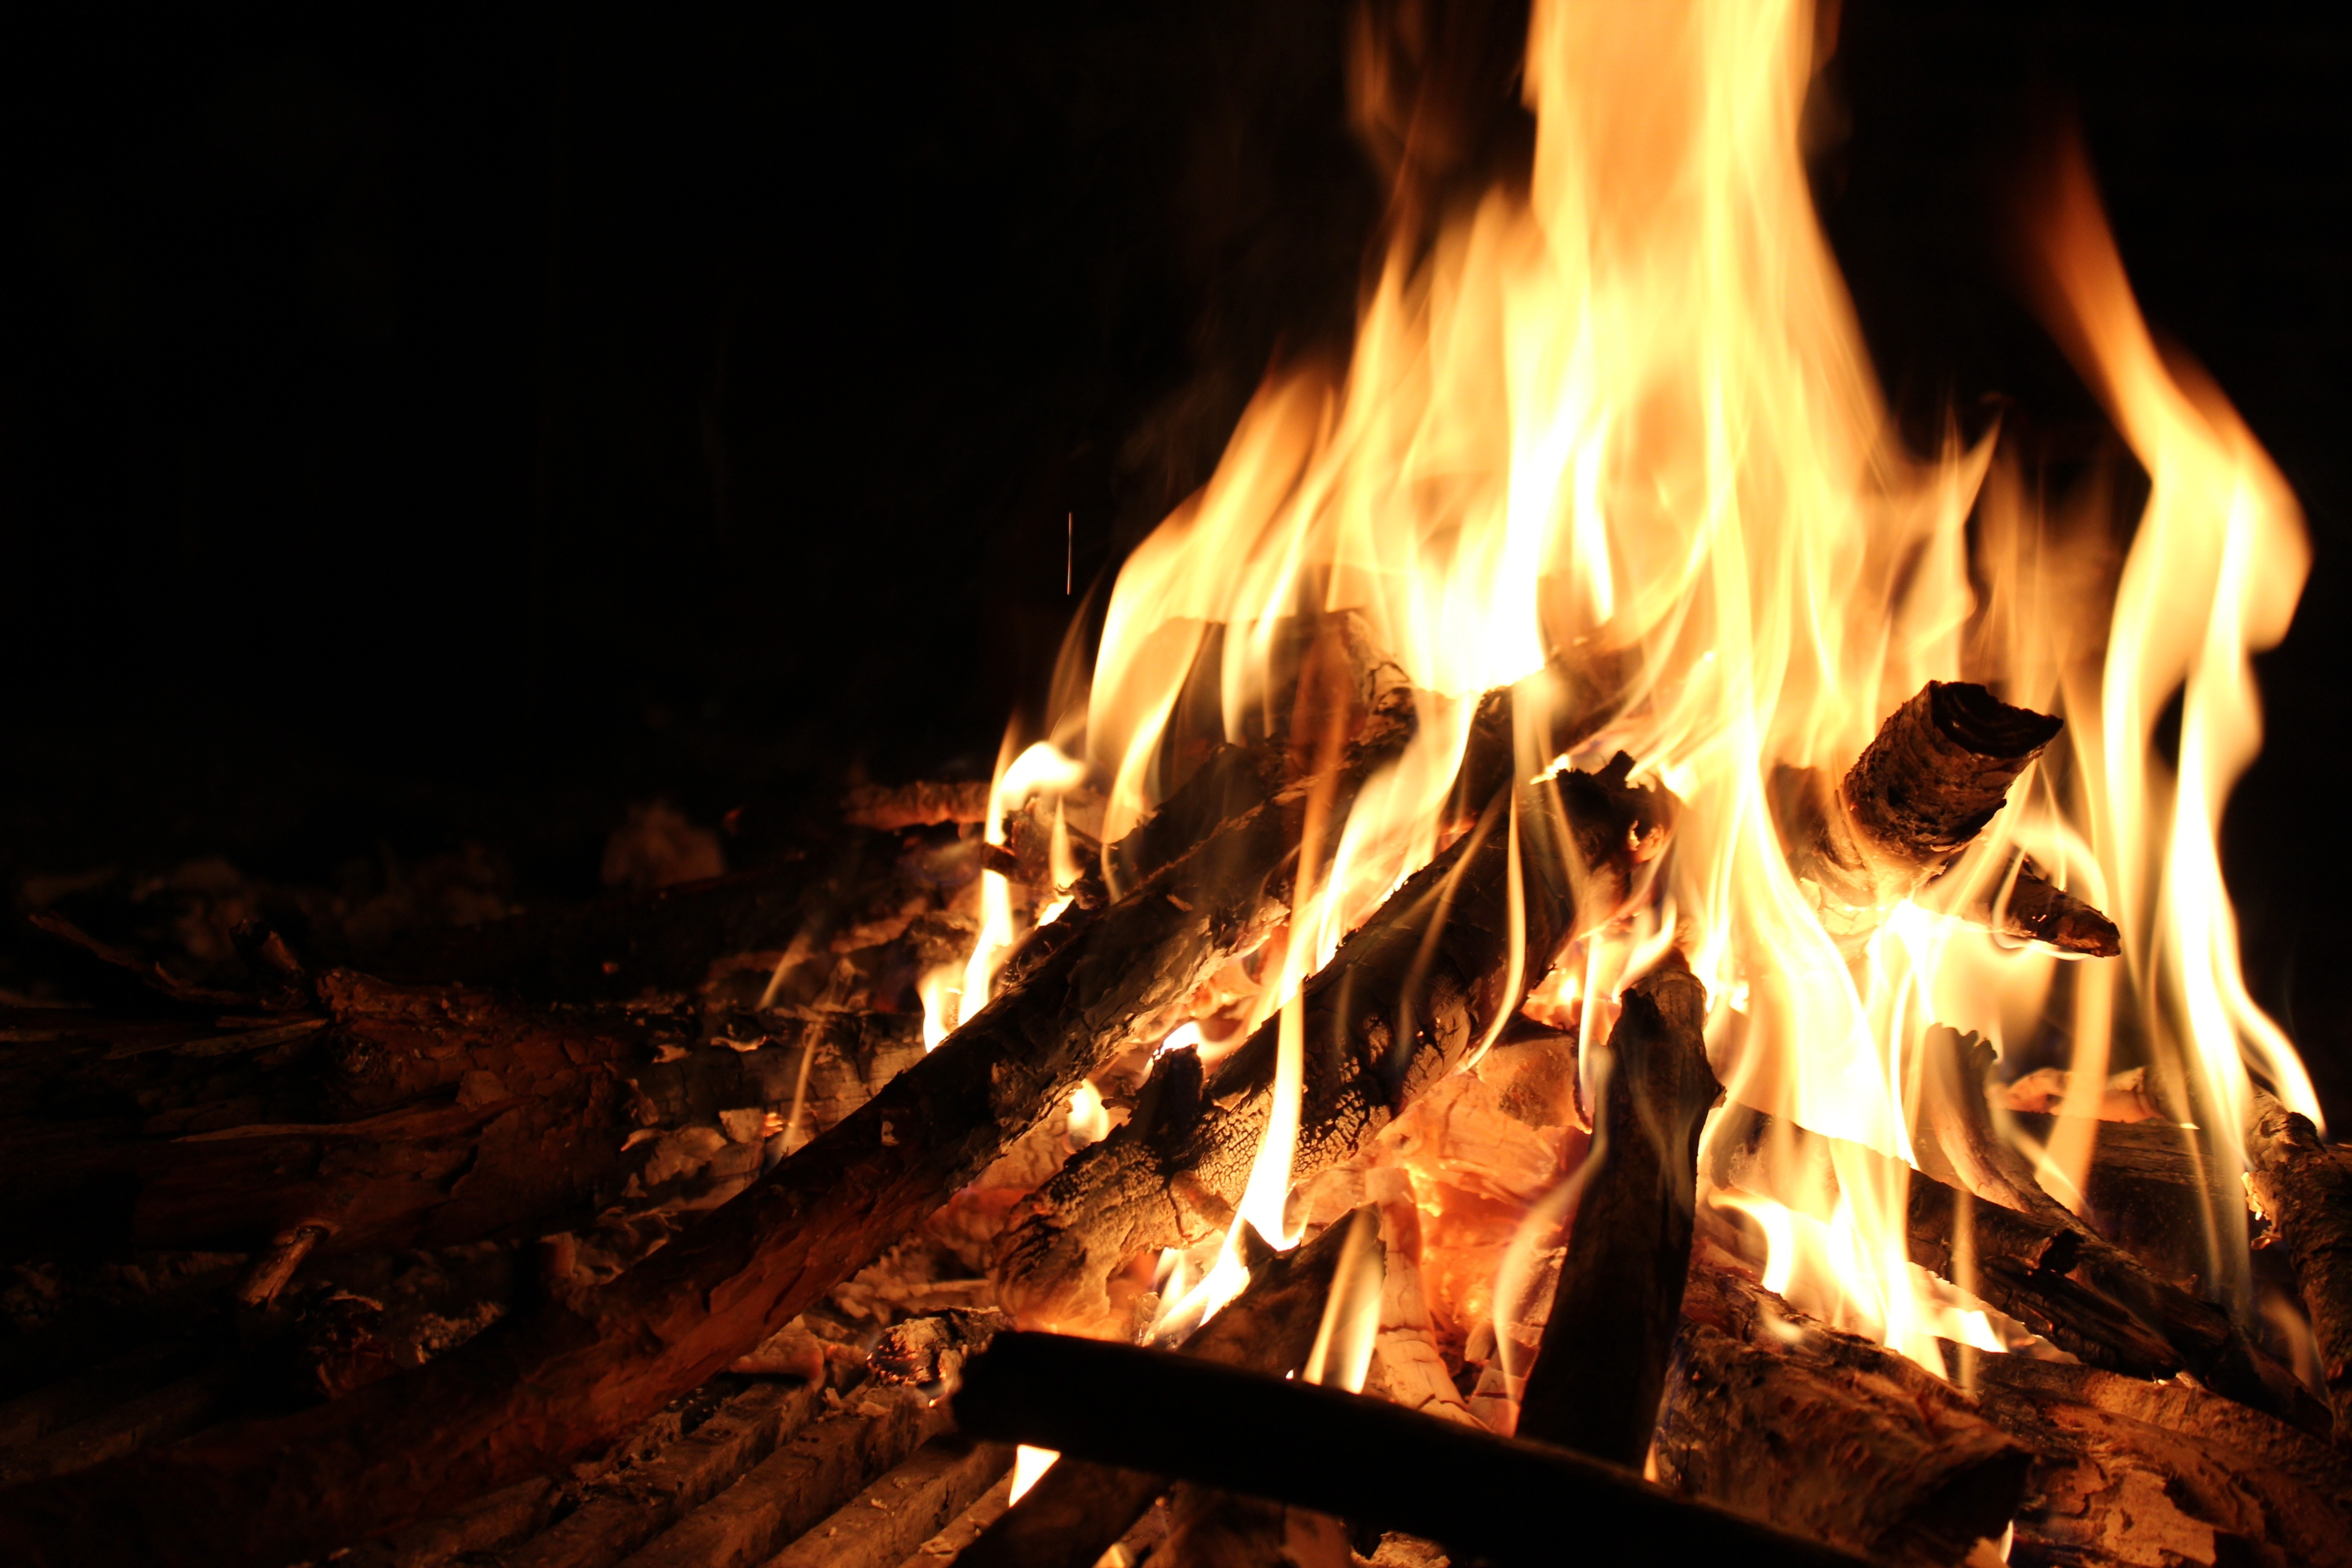fire: (943, 24, 2352, 1411)
